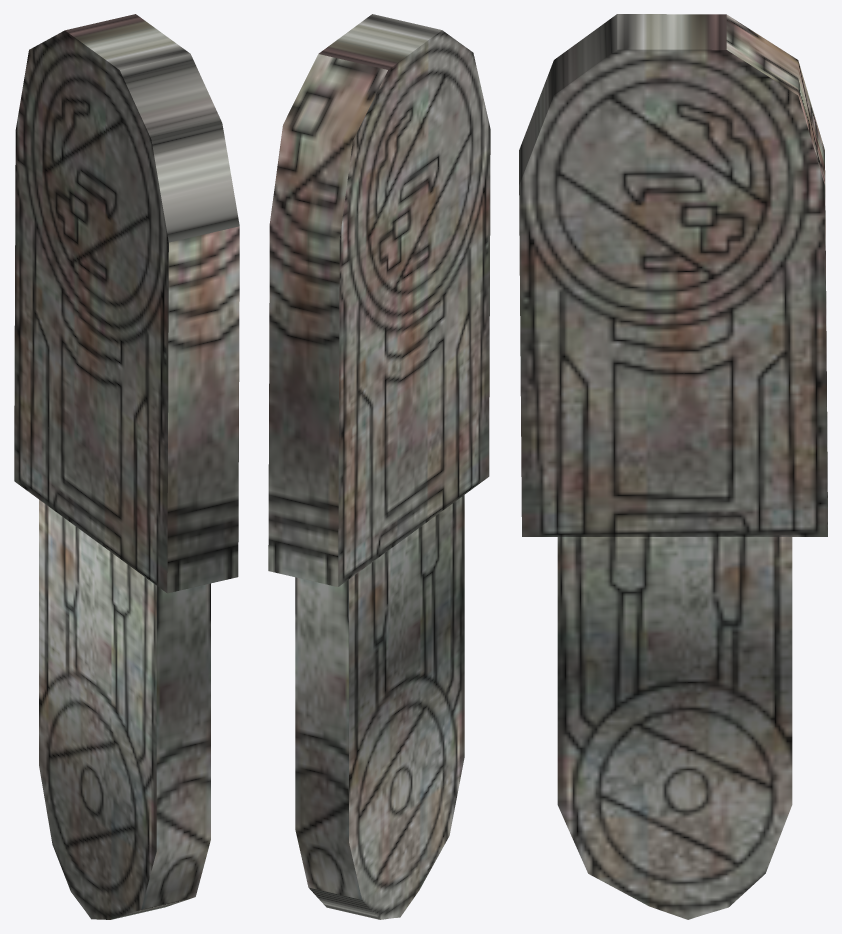
The model's file is legbackrightup.fbx.
The picture shows the model from 3 angles, left to right: view 1: azimuth 30°, elevation 25°; view 2: azimuth 150°, elevation 25°; view 3: azimuth 270°, elevation 25°; orthographic projection.
Visible parts, largest first — view 1: legbackrightup; view 2: legbackrightup; view 3: legbackrightup.
Boxes of the visible parts, x1=… form: legbackrightup: x1=14, y1=14, x2=239, y2=919; legbackrightup: x1=268, y1=14, x2=490, y2=919; legbackrightup: x1=519, y1=14, x2=827, y2=919.
Bounding box in the file's own units: 28.96 × 342 × 109.
